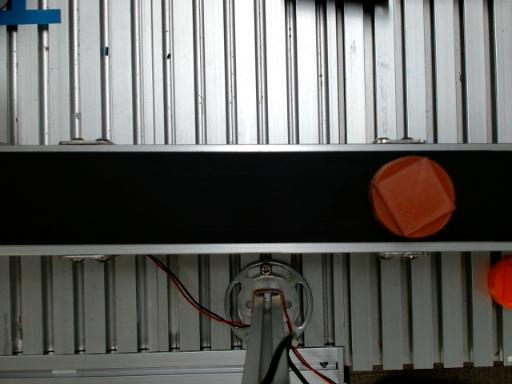Brown_Waper: (369, 156, 455, 238)
Square: (376, 158, 455, 238)
